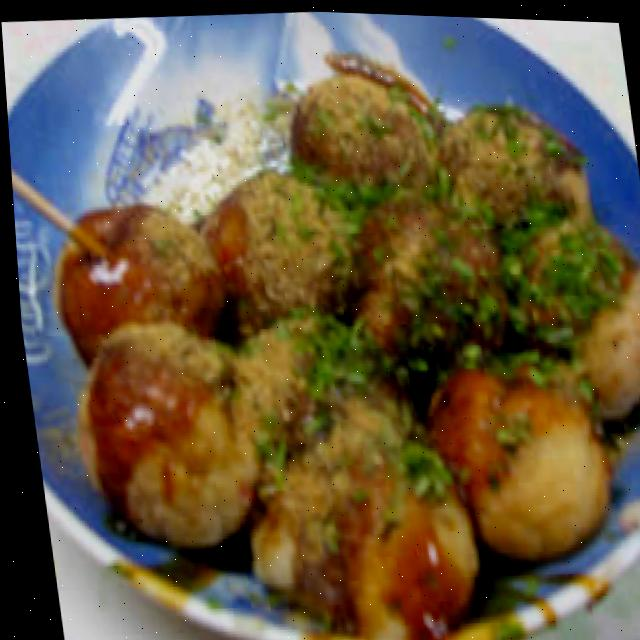炸货点心: (6, 1, 640, 640)
